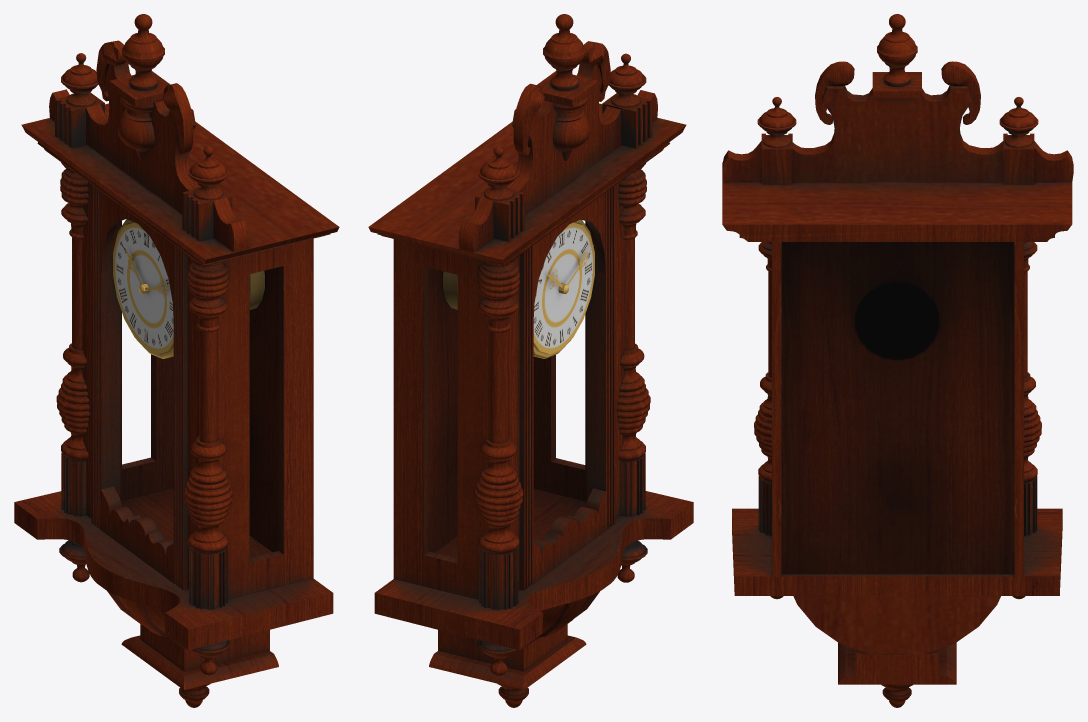
Rendered from antique_clock.glb.
3 renders of one model, left to right at view 1: azimuth 30°, elevation 25°; view 2: azimuth 150°, elevation 25°; view 3: azimuth 270°, elevation 25°, orthographic. The views are drawn at different scales.
Visible parts, largest first — view 1: Object_3; view 2: Object_3; view 3: Object_3.
Boxes of the visible parts, bbox=[...] form: Object_3: bbox=[14, 14, 339, 707]; Object_3: bbox=[368, 14, 693, 707]; Object_3: bbox=[722, 14, 1073, 707].
Bounding box in the file's own units: 288 × 1321 × 629.
1 material, 1 textured.
